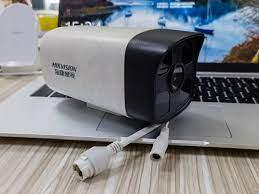tutu: (40, 22, 209, 129)
